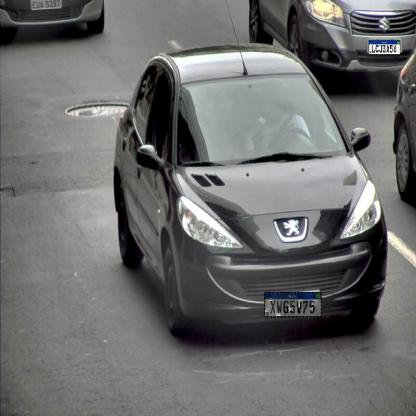PlacaM: (264, 292, 322, 317), (369, 40, 400, 55)
